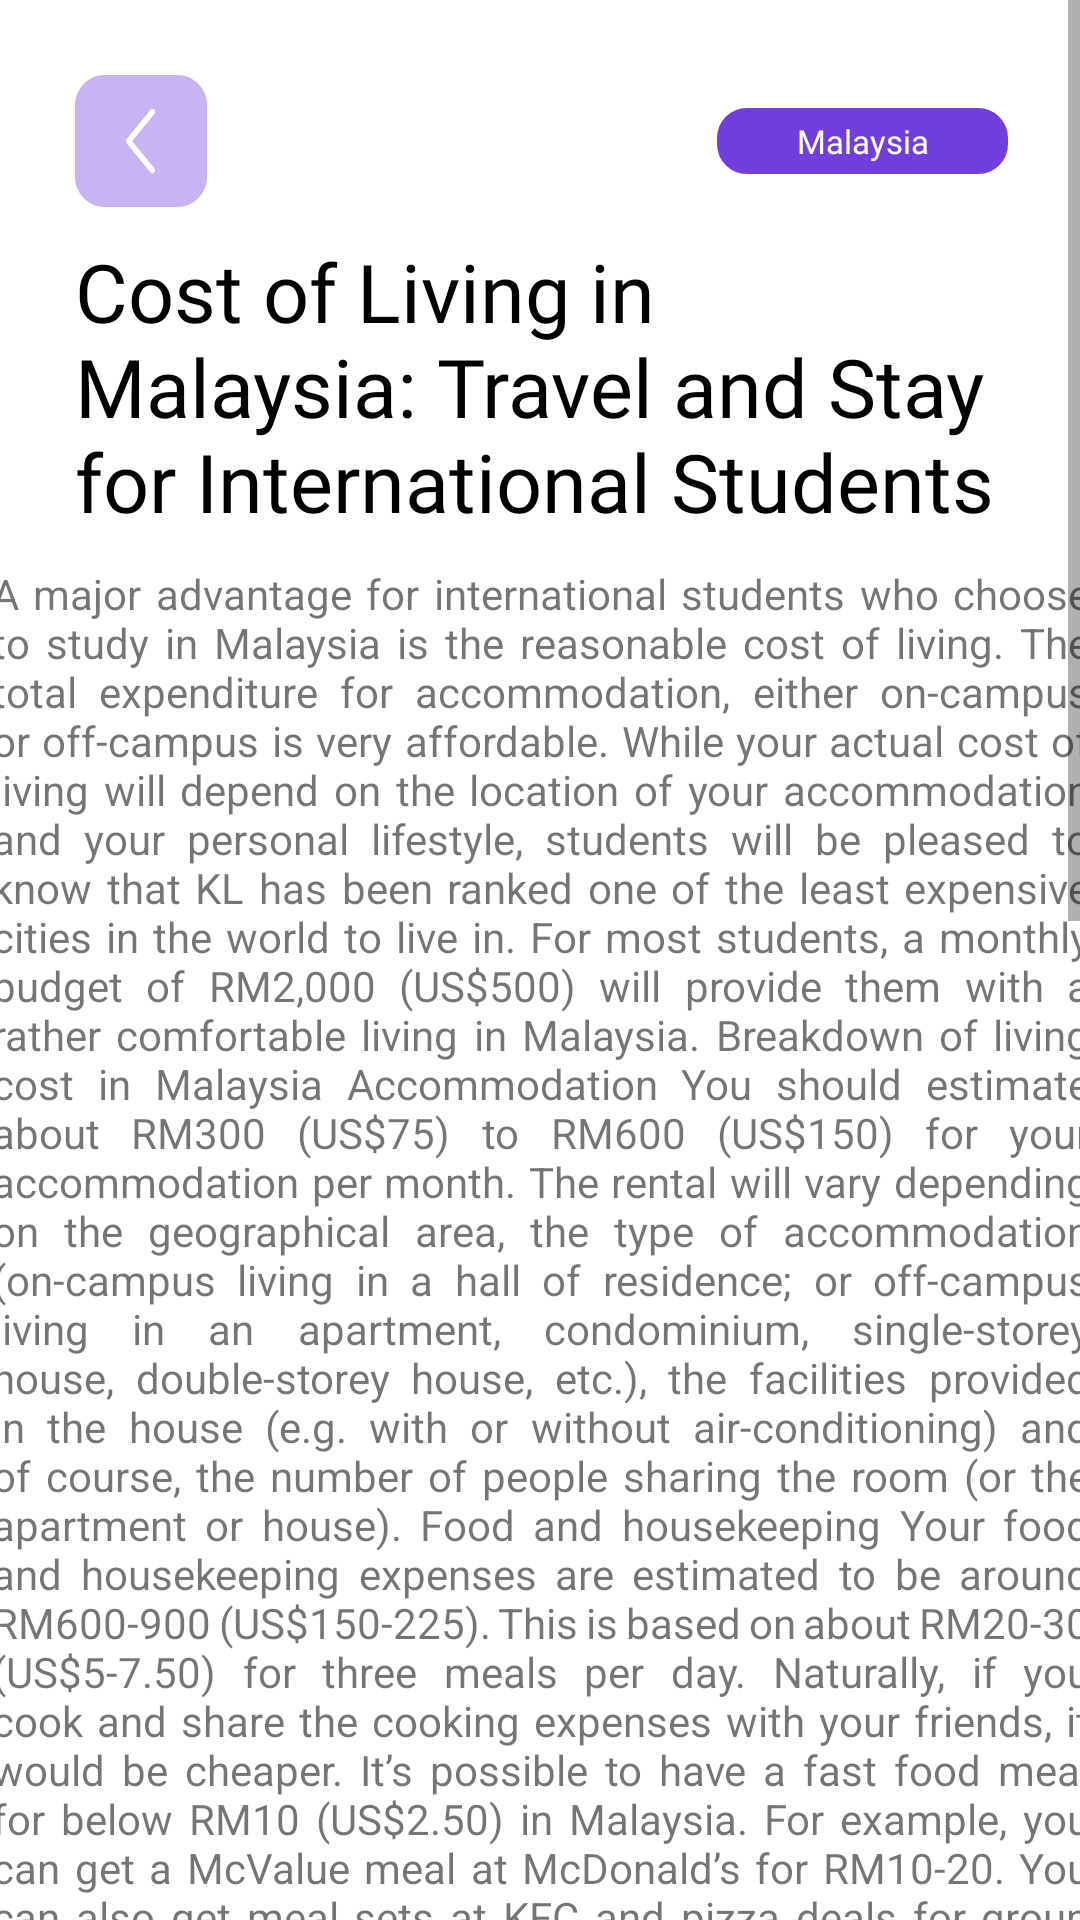

Where icons sit on this 1080px x 1920px app screen, as (x1, y1, x2, y2):
arrow left: (75, 75, 207, 207)
